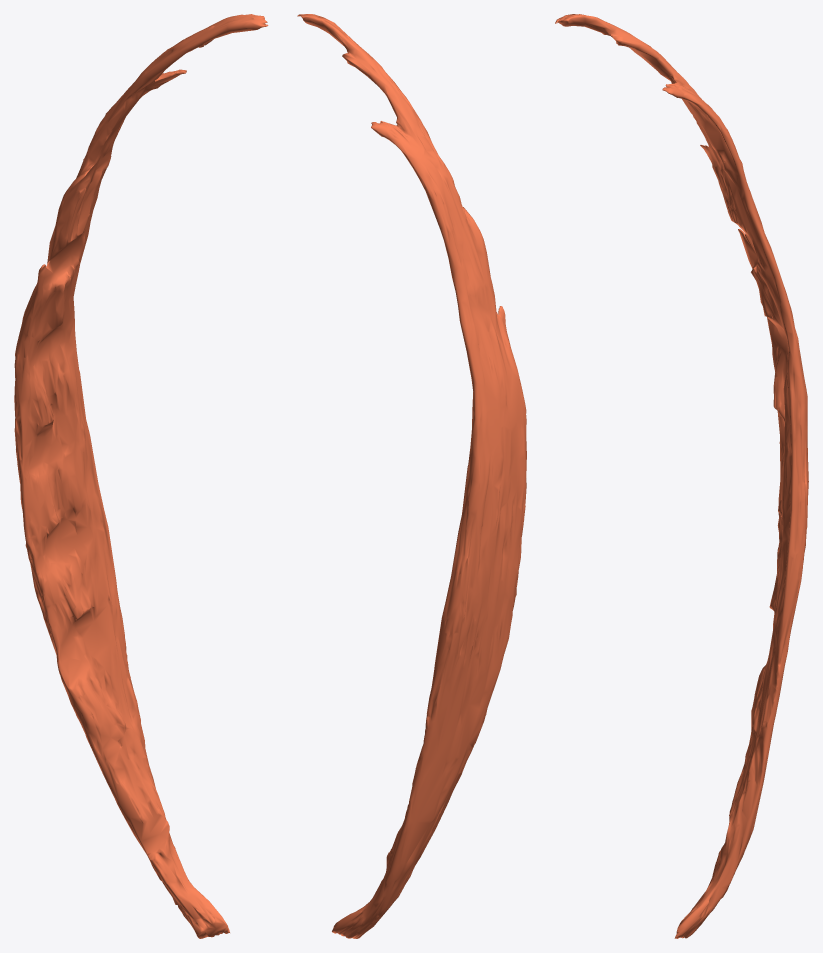
File: Iliocostalis_thoracis_muscle.r_Generated_Mesh_From_X3D.470.glb
3 views of the same model, side by side, from view 1: azimuth 30°, elevation 25°; view 2: azimuth 210°, elevation 25°; view 3: azimuth 270°, elevation 25° (orthographic). The views are drawn at different scales.
Visible parts, largest first — view 1: Iliocostalis_thoracis_muscle.r_Generated_Mesh_From_X3D.470; view 2: Iliocostalis_thoracis_muscle.r_Generated_Mesh_From_X3D.470; view 3: Iliocostalis_thoracis_muscle.r_Generated_Mesh_From_X3D.470.
Part boxes in pixels (<box>): Iliocostalis_thoracis_muscle.r_Generated_Mesh_From_X3D.470: <box>14,14,268,938</box>; Iliocostalis_thoracis_muscle.r_Generated_Mesh_From_X3D.470: <box>297,14,526,938</box>; Iliocostalis_thoracis_muscle.r_Generated_Mesh_From_X3D.470: <box>555,14,808,938</box>.
Bounding box in the file's own units: 0.0547 × 0.3164 × 0.0796.
